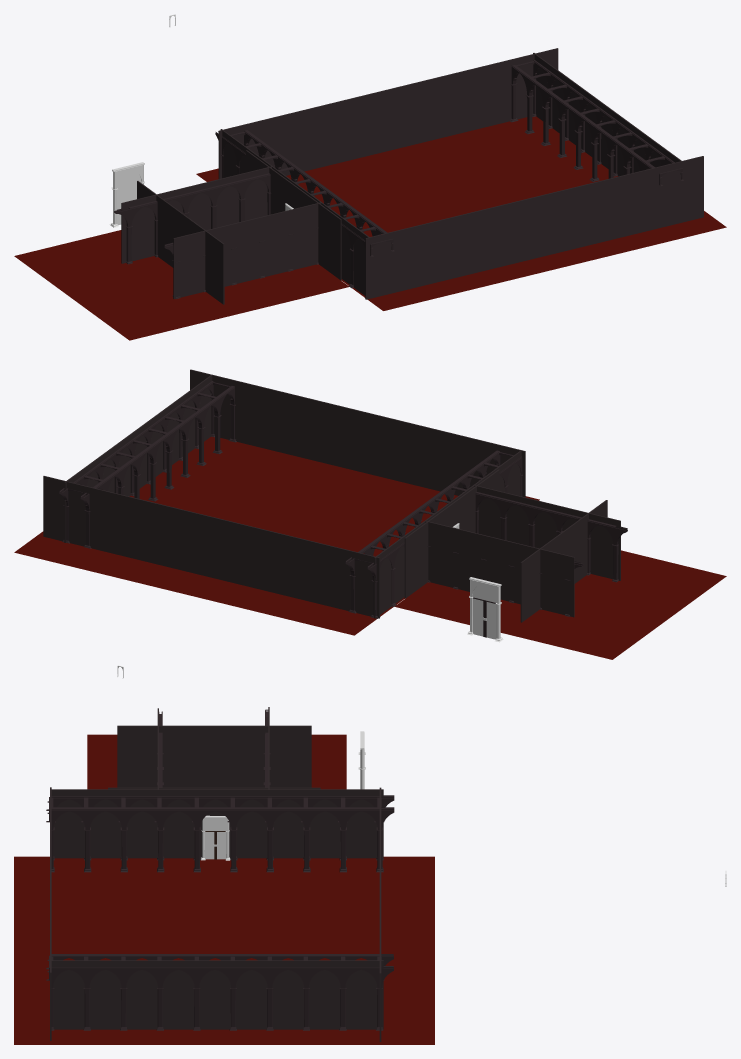
File: MainHall_V2.fbx
The picture shows the model from 3 angles, top to bottom: view 1: azimuth 30°, elevation 25°; view 2: azimuth 150°, elevation 25°; view 3: azimuth 270°, elevation 25°; orthographic projection. The views are drawn at different scales.
Visible parts, largest first — view 1: Sol, MurDroit.001, SolVestibule, MurGauche.001, MurDroitVestibule, MurDroit, MurGaucheVestibule, MurFond, ArcheFond.002, MurFondVestibule, MurEntreeVestibule, MurGauche (+9 smaller); view 2: Sol, MurGauche, SolVestibule, MurDroit, MurGaucheVestibule, MurDroitVestibule, MurGauche.001, MurFond, ArcheFond.002, MurDroit.001, MurFondVestibule, MurEntreeVestibule (+9 smaller); view 3: Sol, MurFond, MurEntree, MurEntreeVestibule, ArcheEntree.002, ArcheFond, SolVestibule, ArcheEntree.001, ArcheFond.002, MurFondVestibule, BandeauEntree, Milieu.001.
Part boxes in pixels (left/top/right/bottom): Sol: left=196, top=116, right=726, bottom=310; MurDroit.001: left=445, top=156, right=703, bottom=280; SolVestibule: left=14, top=230, right=349, bottom=340; MurGauche.001: left=299, top=48, right=558, bottom=171; MurDroitVestibule: left=173, top=202, right=321, bottom=298; MurDroit: left=365, top=175, right=624, bottom=299; MurGaucheVestibule: left=121, top=166, right=271, bottom=263; MurFond: left=533, top=53, right=681, bottom=176; ArcheFond.002: left=510, top=65, right=654, bottom=181; MurFondVestibule: left=246, top=150, right=341, bottom=280; MurEntreeVestibule: left=137, top=181, right=224, bottom=304; MurGauche: left=218, top=68, right=477, bottom=178; Sol: left=14, top=436, right=539, bottom=635; MurGauche: left=123, top=495, right=379, bottom=618; SolVestibule: left=394, top=550, right=726, bottom=659; MurDroit: left=268, top=388, right=525, bottom=497; MurGaucheVestibule: left=425, top=521, right=574, bottom=617; MurDroitVestibule: left=474, top=485, right=620, bottom=580; MurGauche.001: left=43, top=476, right=278, bottom=555; MurFond: left=64, top=375, right=212, bottom=542; ArcheFond.002: left=80, top=386, right=236, bottom=548; MurDroit.001: left=190, top=369, right=446, bottom=449; MurFondVestibule: left=404, top=469, right=499, bottom=598; MurEntreeVestibule: left=520, top=500, right=607, bottom=622; Sol: left=14, top=856, right=434, bottom=1044; MurFond: left=51, top=960, right=383, bottom=1029; MurEntree: left=51, top=789, right=383, bottom=858; MurEntreeVestibule: left=117, top=725, right=311, bottom=787; ArcheEntree.002: left=51, top=807, right=394, bottom=872; ArcheFond: left=51, top=966, right=393, bottom=1030; SolVestibule: left=87, top=734, right=346, bottom=789; ArcheEntree.001: left=51, top=795, right=394, bottom=860; ArcheFond.002: left=51, top=954, right=393, bottom=965; MurFondVestibule: left=108, top=787, right=320, bottom=789; BandeauEntree: left=46, top=797, right=382, bottom=822; Milieu.001: left=204, top=832, right=226, bottom=859.
Size of the model in its own units: 17389 by 1809 by 16937.
